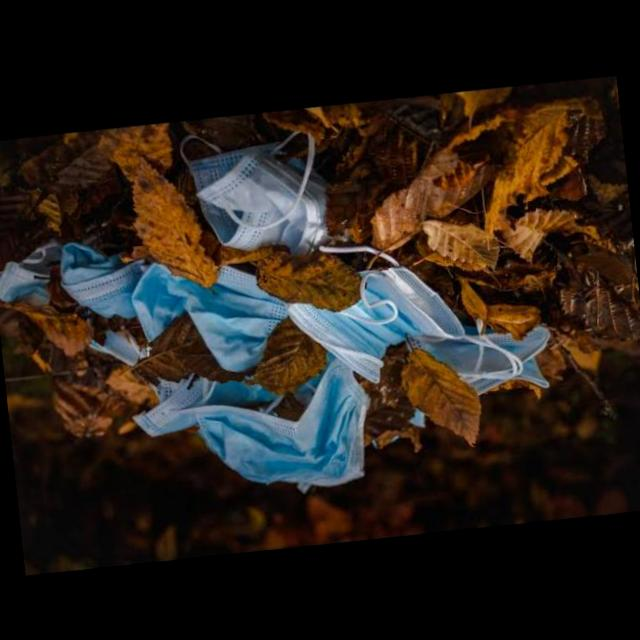khau_trang: (180, 355, 369, 492), (287, 265, 467, 382), (178, 130, 328, 253), (129, 261, 288, 372), (410, 317, 550, 394), (131, 371, 282, 436), (56, 239, 150, 317), (0, 235, 61, 304)
la_cay: (111, 140, 220, 287), (484, 97, 598, 232), (369, 131, 489, 250), (222, 243, 362, 311), (399, 347, 481, 447), (11, 278, 91, 367), (493, 208, 616, 262), (250, 314, 328, 395), (526, 209, 622, 252), (421, 218, 499, 269)
